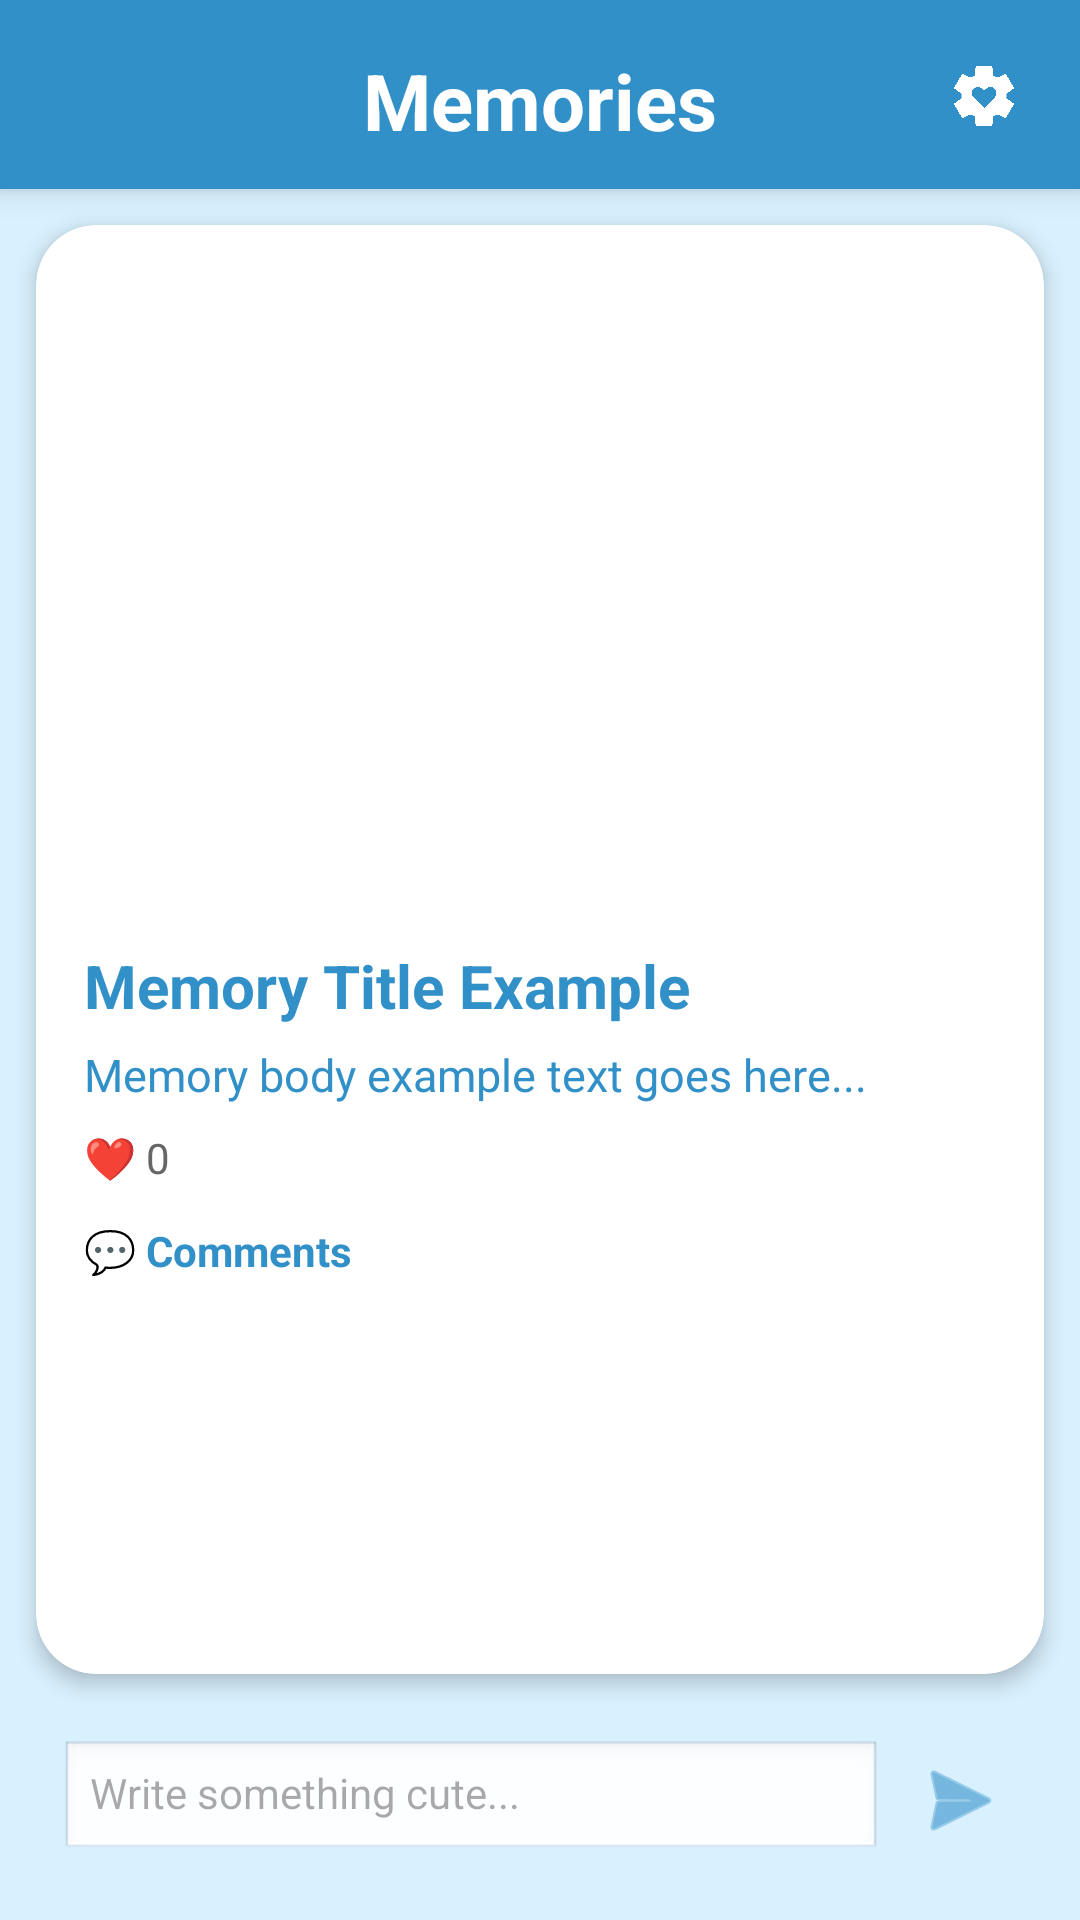

Icons on this 1080×1920 Android screen, each with the point to tap as (x,y):
send: (960,1800)
settings: (984,96)
